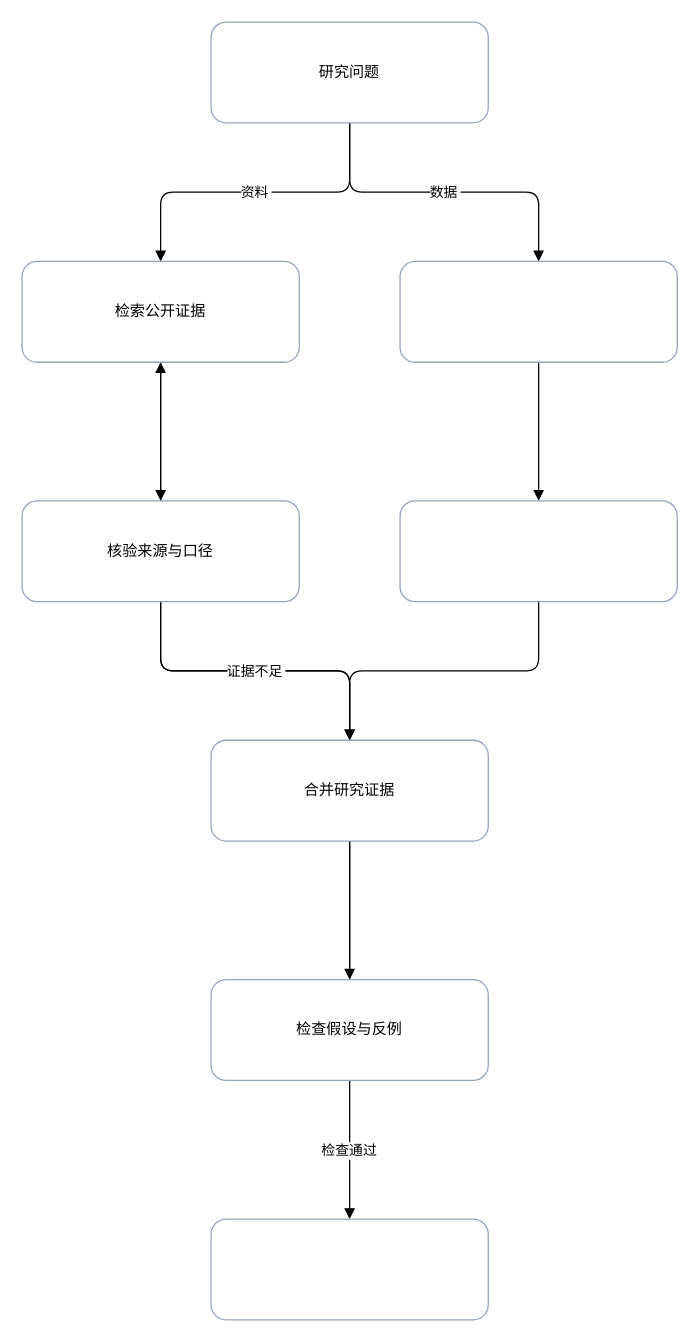
The diagram is 699 pixels wide and 1342 high, and some of its shapes have lost their labels. Each missing label, with the box of its shape:
检查输入数据: (399, 260, 677, 362)
生成报告与图形: (210, 1218, 488, 1320)
运行确定性模型: (399, 500, 677, 602)
